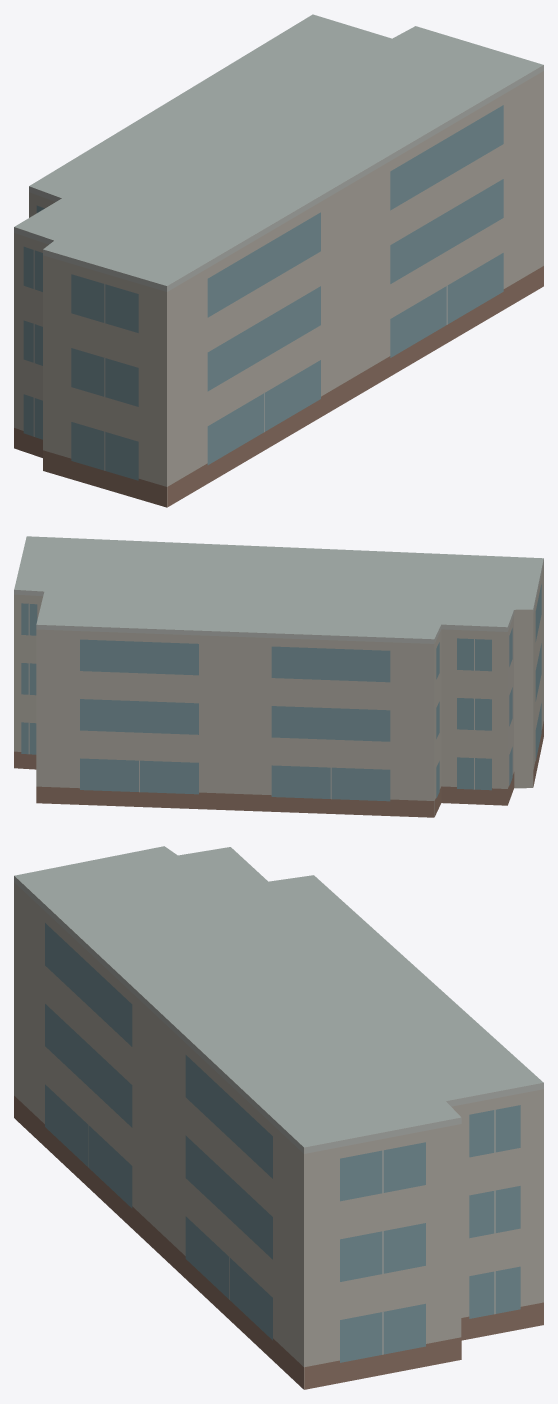
Rendered from survey-upis-32588501.glb.
The picture shows the model from 3 angles, top to bottom: view 1: azimuth 30°, elevation 25°; view 2: azimuth 150°, elevation 25°; view 3: azimuth 270°, elevation 25°; orthographic projection. The views are drawn at different scales.
Parts seen in each view (by area): view 1: survey-upis-32588501.tmp; view 2: survey-upis-32588501.tmp; view 3: survey-upis-32588501.tmp.
Part boxes in pixels (x1,y1,x2,y2): survey-upis-32588501.tmp: [14, 14, 543, 507]; survey-upis-32588501.tmp: [14, 536, 543, 817]; survey-upis-32588501.tmp: [14, 846, 543, 1389].
Bounding box in the file's own units: 24.43 × 9.15 × 18.14.
